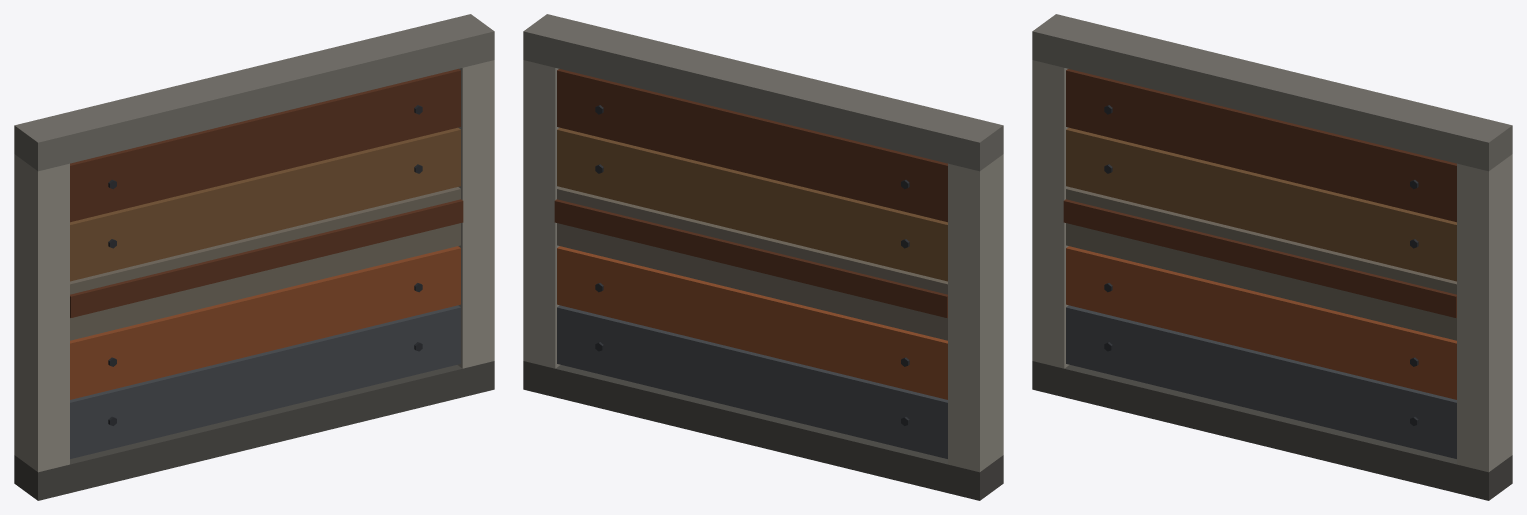
The model's file is piece_wall_half.fbx.
3 renders of one model, left to right at view 1: azimuth 30°, elevation 25°; view 2: azimuth 150°, elevation 25°; view 3: azimuth 330°, elevation 25°, orthographic.
Parts seen in each view (by area): view 1: piece_wall_half; view 2: piece_wall_half; view 3: piece_wall_half.
Part boxes in pixels (x1,y1,x2,y2): piece_wall_half: (14, 14, 494, 500); piece_wall_half: (523, 14, 1003, 500); piece_wall_half: (1032, 14, 1512, 500).
Size of the model in its own units: 2 by 1.5 by 0.192.
